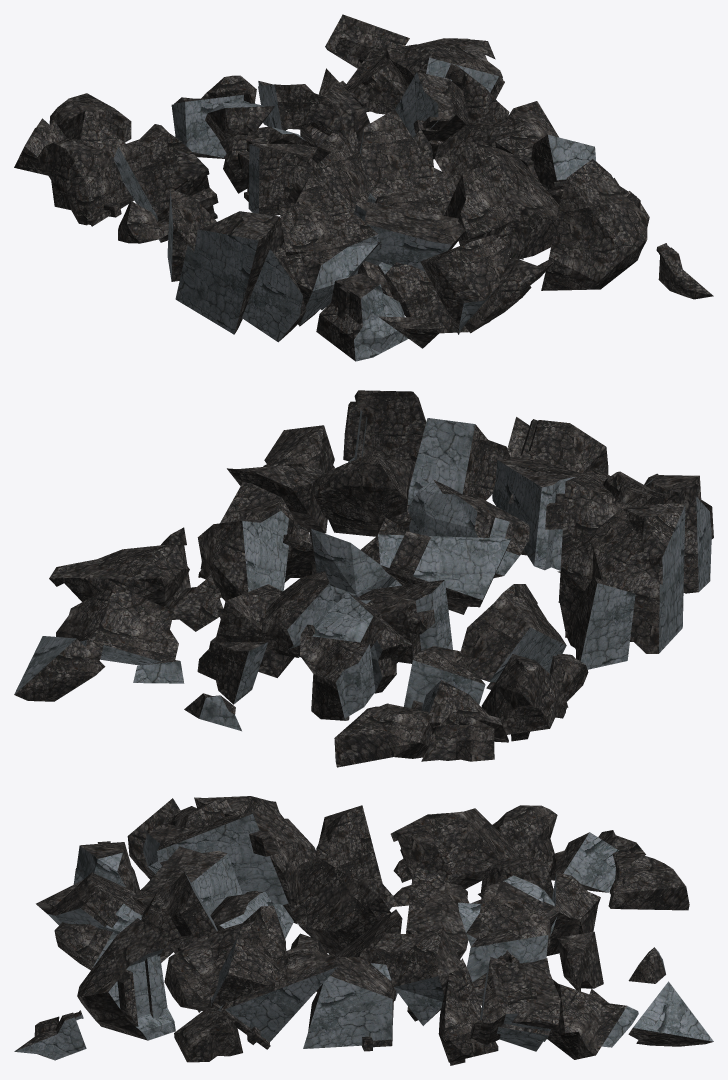
File: Rock_BrokenSmall.fbx
3 renders of one model, top to bottom at view 1: azimuth 30°, elevation 25°; view 2: azimuth 150°, elevation 25°; view 3: azimuth 270°, elevation 25°, orthographic. The views are drawn at different scales.
Visible parts, largest first — view 1: SMO_BG50_walkway_break_0120; view 2: SMO_BG50_walkway_break_0120; view 3: SMO_BG50_walkway_break_0120.
Boxes of the visible parts, left/top/right/bottom form: SMO_BG50_walkway_break_0120: left=14, top=14, right=713, bottom=361; SMO_BG50_walkway_break_0120: left=14, top=390, right=713, bottom=767; SMO_BG50_walkway_break_0120: left=14, top=796, right=713, bottom=1065.
Bounding box in the file's own units: 4539 × 1250 × 6234.
